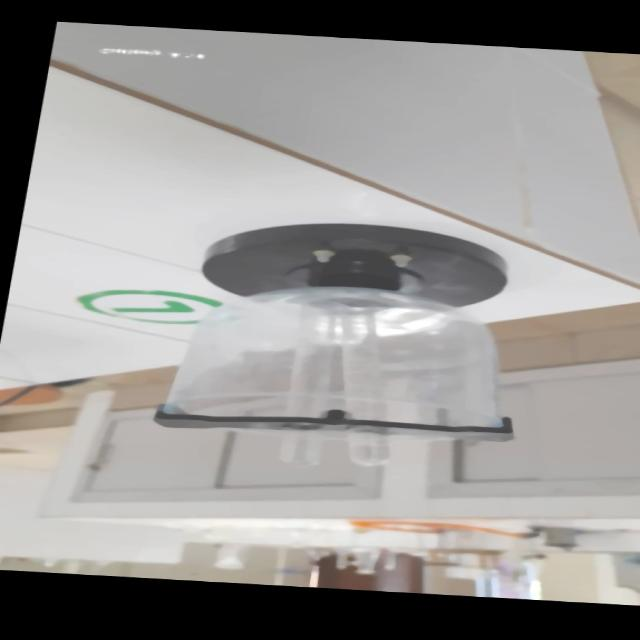Electrolyzer: (107, 208, 562, 482)
